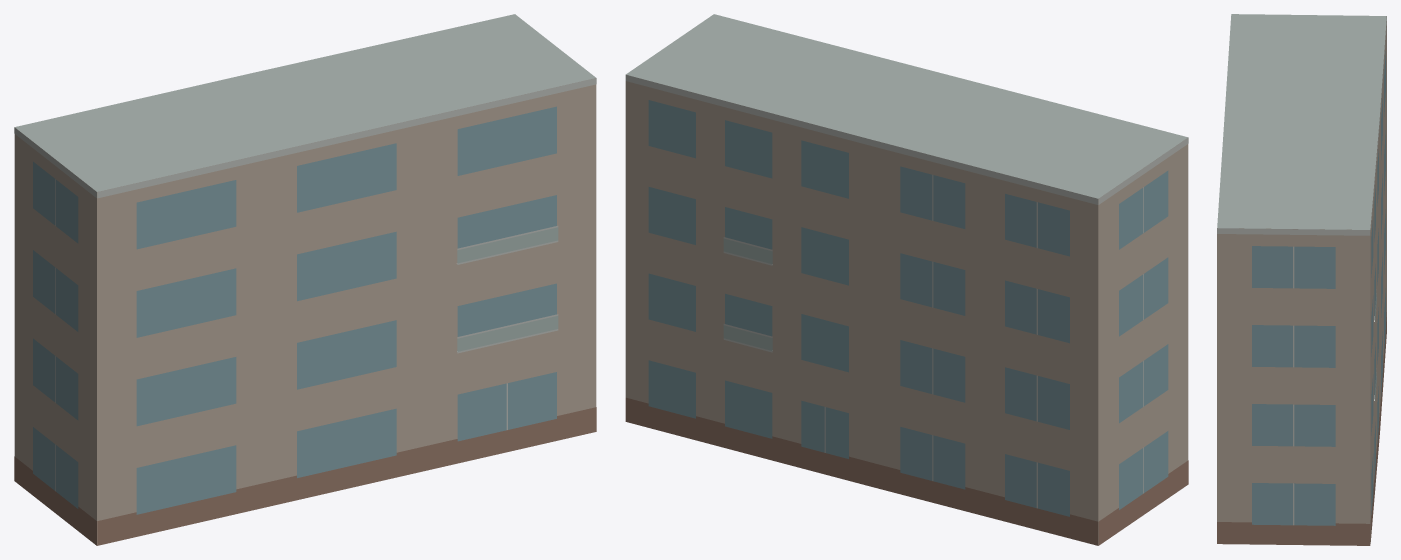
Rendered from survey-upis-32956980.glb.
3 renders of one model, left to right at view 1: azimuth 30°, elevation 25°; view 2: azimuth 150°, elevation 25°; view 3: azimuth 270°, elevation 25°, orthographic. The views are drawn at different scales.
Visible parts, largest first — view 1: survey-upis-32956980.tmp; view 2: survey-upis-32956980.tmp; view 3: survey-upis-32956980.tmp.
Part boxes in pixels (box(x1,y1,x2,y2)): survey-upis-32956980.tmp: box(14, 14, 596, 545); survey-upis-32956980.tmp: box(625, 14, 1188, 545); survey-upis-32956980.tmp: box(1217, 14, 1386, 545).
Bounding box in the file's own units: 19.52 × 13.3 × 6.49.
